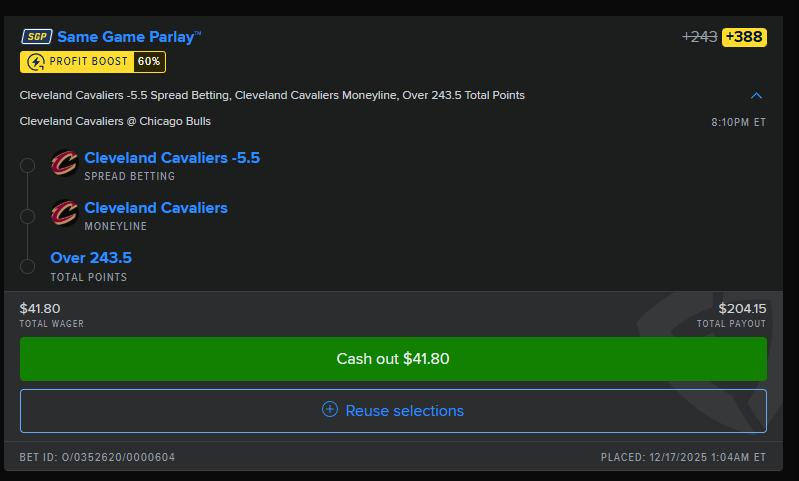game: (18, 114, 214, 131)
odds: (726, 29, 764, 46)
payout: (715, 300, 770, 318)
wager: (17, 298, 63, 318)
